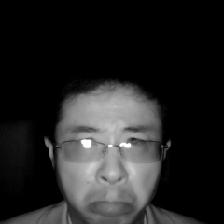sad: (37, 60, 173, 224)
